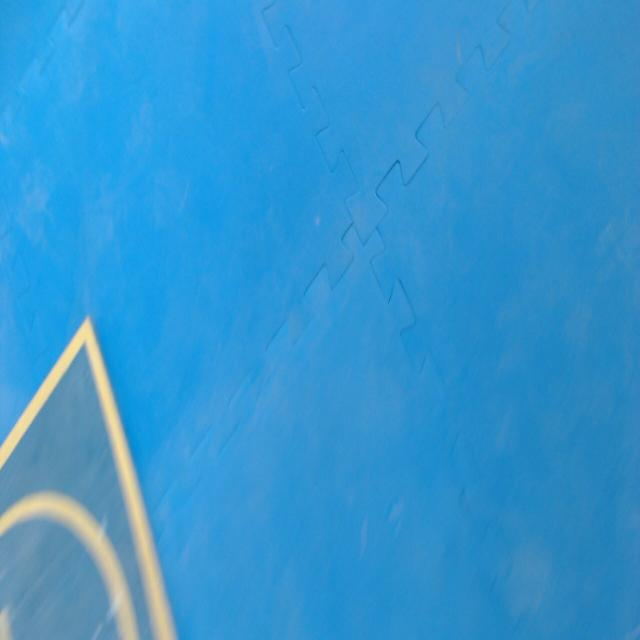base_pouso: (0, 318, 180, 639)
